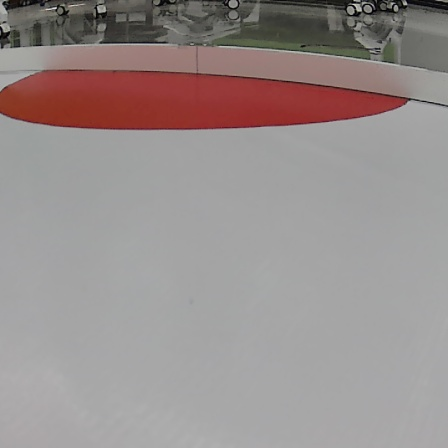red_base: (3, 61, 417, 140)
